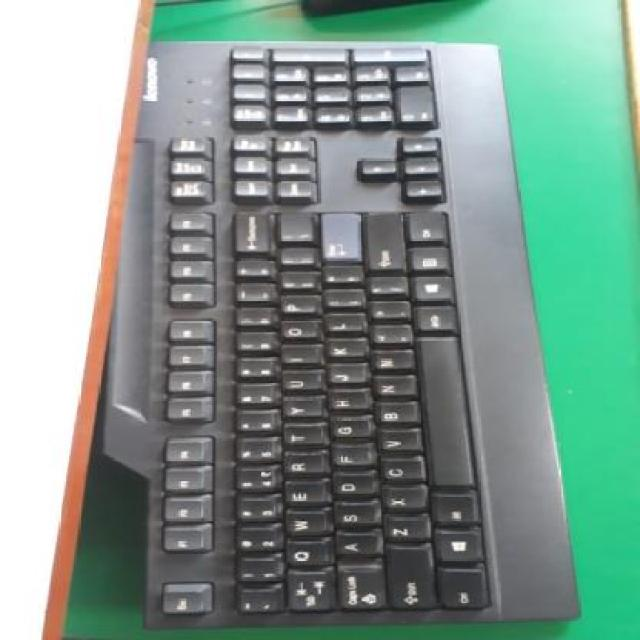keyboard: (152, 41, 584, 626)
